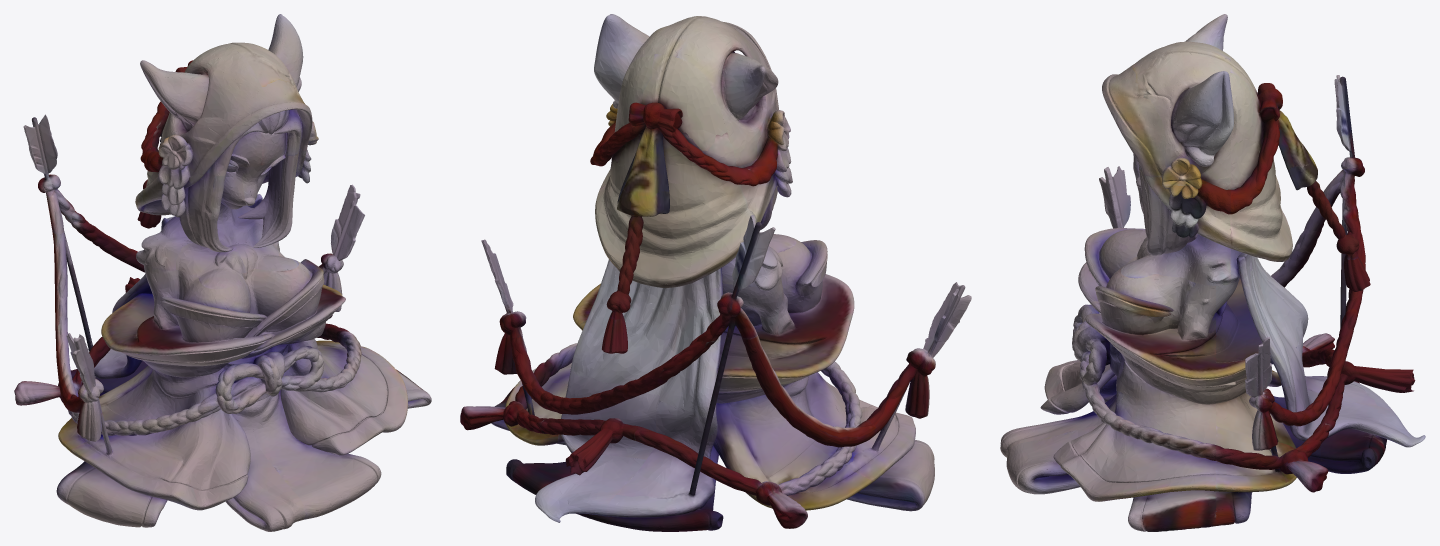
File: girl.glb
3 renders of one model, left to right at view 1: azimuth 30°, elevation 25°; view 2: azimuth 150°, elevation 25°; view 3: azimuth 270°, elevation 25°, orthographic. The views are drawn at different scales.
Parts seen in each view (by area): view 1: aiprintgen_0; view 2: aiprintgen_0; view 3: aiprintgen_0.
Boxes of the visible parts, bbox=[...] form: aiprintgen_0: bbox=[14, 14, 431, 531]; aiprintgen_0: bbox=[460, 14, 971, 531]; aiprintgen_0: bbox=[1000, 14, 1425, 531].
Size of the model in its own units: 0.9362 by 0.9997 by 0.8748.
Materials: 1 (1 with a texture image).
